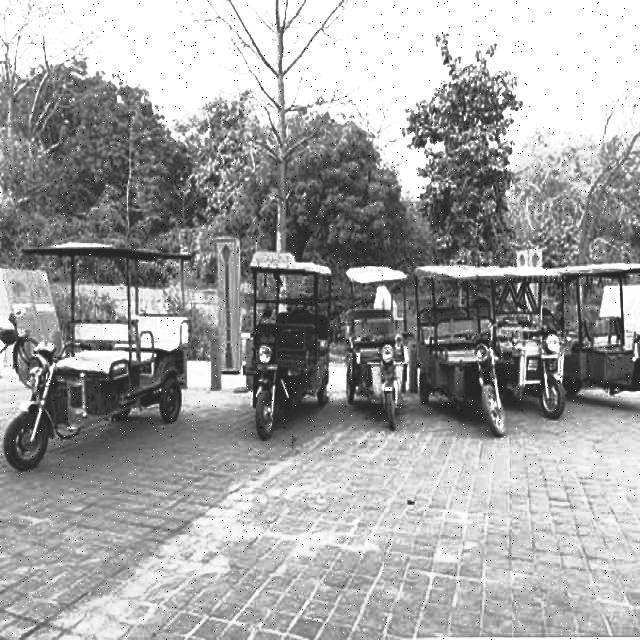Toto: (0, 244, 198, 469), (245, 250, 337, 443), (422, 260, 504, 444), (564, 251, 640, 411), (500, 266, 567, 434), (349, 263, 411, 444)
